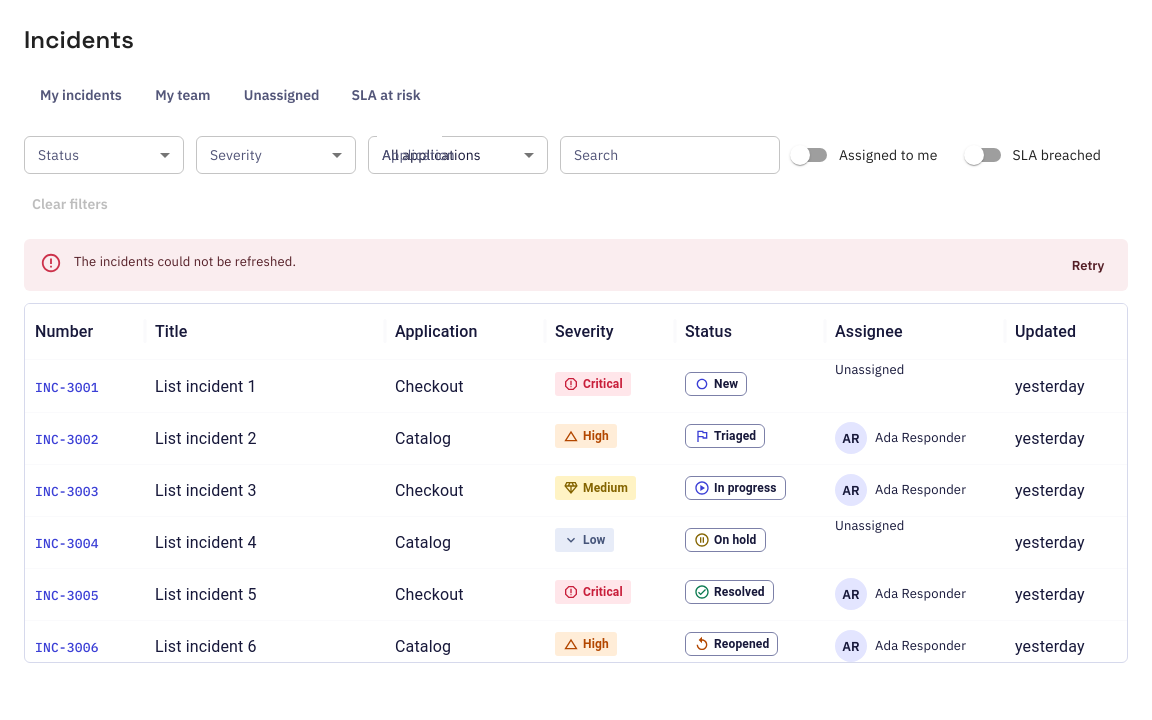
IncidentListRoute › keeps the rows and shows a retry when a refresh fails
This screenshot has width=1152, height=720.
Expected: the table named "Incidents" is shown, [25,304,1127,662]
Expected: the text "The incidents could not be refreshed." is shown, [74,252,296,270]
What coordinates should you click on to do the following:
click the button "Retry"
I would click on:
 (1088, 266)
Its box is [1056,248,1120,284].
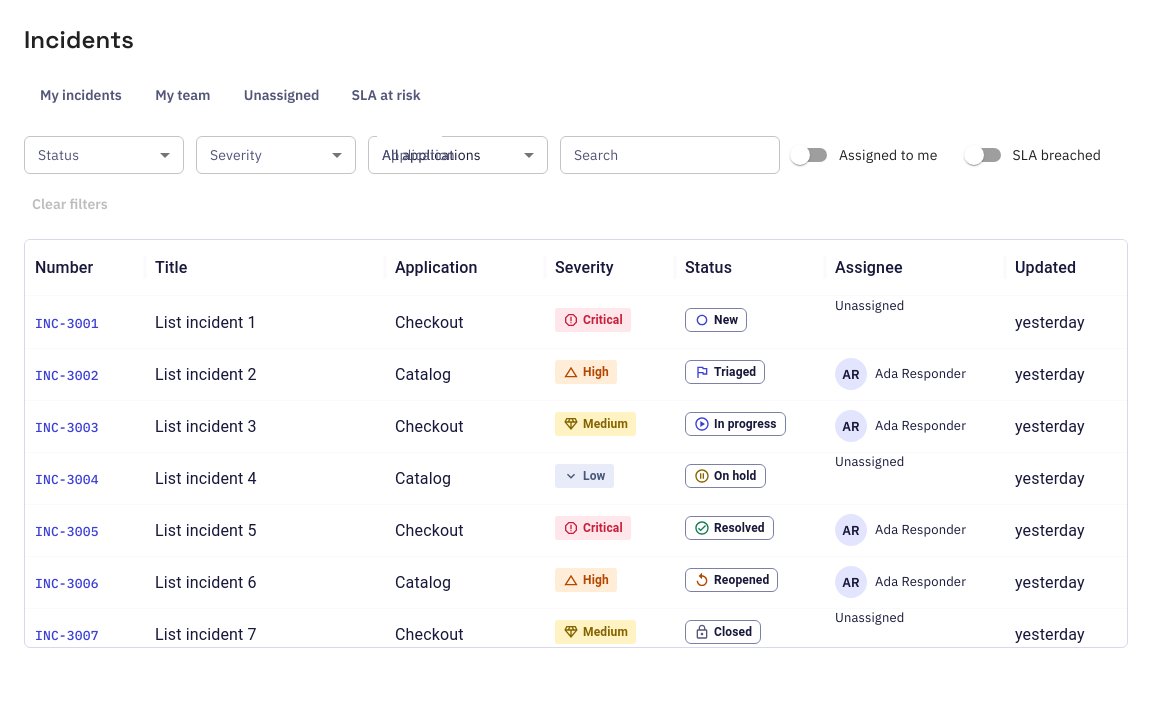
Result: the text "The incidents could not be refreshed." is gone
